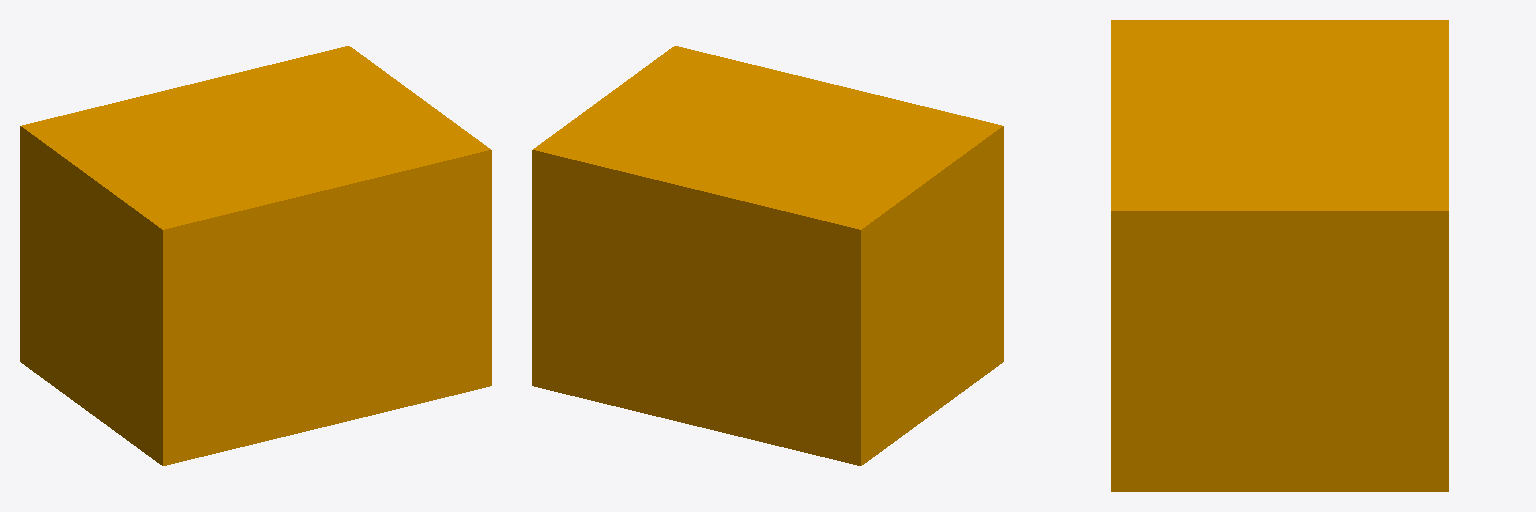
robot.urdf — object:
<?xml version="1.0"?>
<!-- Auto-generated by tools/gen_primitive_objects.py. kind=box dims=(0.08, 0.06, 0.055) -->
<robot name="object">
  <link name="object">
    <visual>
      <origin xyz="0 0 0"/>
      <geometry>
        <box size="0.080000 0.060000 0.055000"/>
      </geometry>
    </visual>
    <collision>
      <origin xyz="0 0 0"/>
      <geometry>
        <box size="0.080000 0.060000 0.055000"/>
      </geometry>
    </collision>
    <inertial>
      <mass value="0.052800"/>
      <inertia ixx="0.00002915" ixy="0.0" ixz="0.0" iyy="0.00004147" iyz="0.0" izz="0.00004400"/>
    </inertial>
  </link>
</robot>

--- What the picture shows (computed from the rendered views, not written in the file) ---
The picture shows the robot from 3 angles, left to right: view 1: azimuth 30°, elevation 25°; view 2: azimuth 150°, elevation 25°; view 3: azimuth 270°, elevation 25°; orthographic projection.
Robot: object — 1 links, 0 joints (none); root link object; default pose: every joint at zero.
Links seen in each view (by area): view 1: object; view 2: object; view 3: object.
Link boxes in pixels (bbox=[...]): object: bbox=[20, 46, 491, 465]; object: bbox=[532, 46, 1003, 465]; object: bbox=[1111, 20, 1448, 491].
Bounding box of the posed robot: 0.08 × 0.06 × 0.055 m (x, y, z).
Geometry: primitives only (box / cylinder / sphere), no mesh files.
